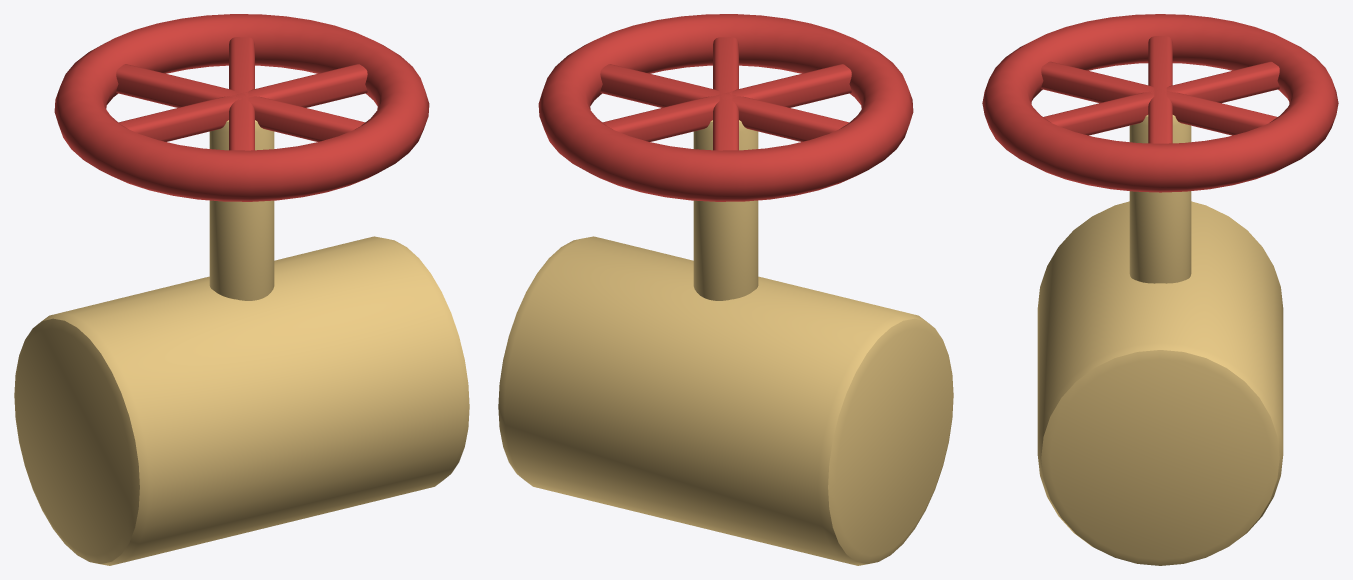
File: valve.glb
The picture shows the model from 3 angles, left to right: view 1: azimuth 30°, elevation 25°; view 2: azimuth 150°, elevation 25°; view 3: azimuth 270°, elevation 25°; orthographic projection. The views are drawn at different scales.
Visible parts, largest first — view 1: body, wheel, stem, spoke0, spoke2, spoke1; view 2: body, wheel, stem, spoke1, spoke0, spoke2; view 3: body, wheel, stem, spoke1, spoke2, spoke0.
Part boxes in pixels (x1,y1,x2,y2): body: (14,236,469,565); wheel: (54,14,429,201); stem: (209,120,274,300); spoke0: (118,64,367,141); spoke2: (116,64,364,141); spoke1: (229,37,254,150); body: (498,236,953,565); wheel: (538,14,913,201); stem: (693,120,758,300); spoke1: (603,64,851,141); spoke0: (600,64,849,141); spoke2: (713,37,738,150); body: (1037,201,1283,565); wheel: (982,14,1338,192); stem: (1129,115,1191,283); spoke1: (1041,61,1277,135); spoke2: (1043,61,1279,135); spoke0: (1148,36,1172,143).
Size of the model in its own units: 0.12 by 0.1476 by 0.116.
